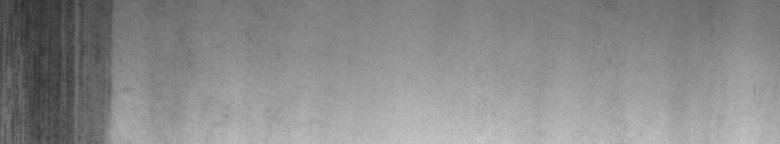ka: (4, 4, 133, 136)
